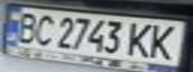2: (51, 14, 75, 50)
3: (103, 17, 127, 55)
4: (87, 16, 109, 53)
7: (69, 15, 90, 51)
B: (9, 9, 42, 44)
C: (30, 11, 57, 46)
K: (142, 21, 187, 61), (124, 19, 160, 58)
